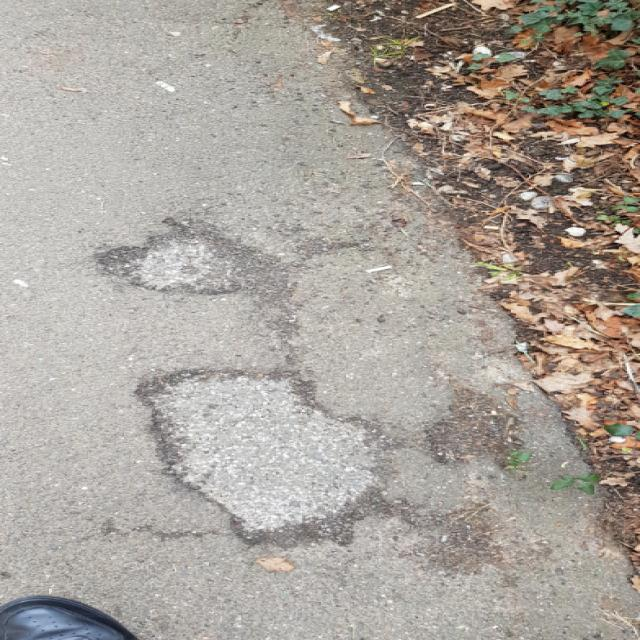Pothole: (134, 362, 400, 550), (81, 214, 277, 298)
